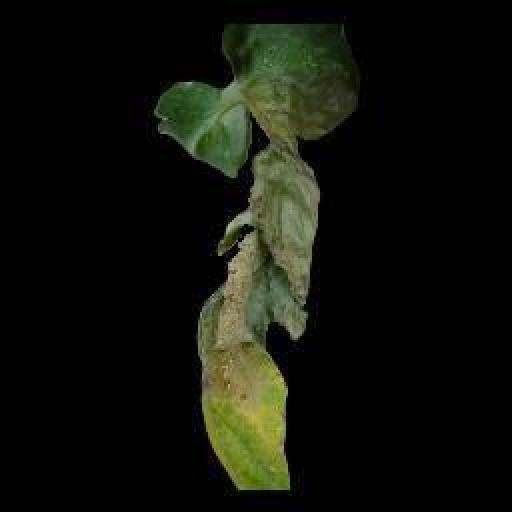disease_tomato: (151, 18, 361, 494)
